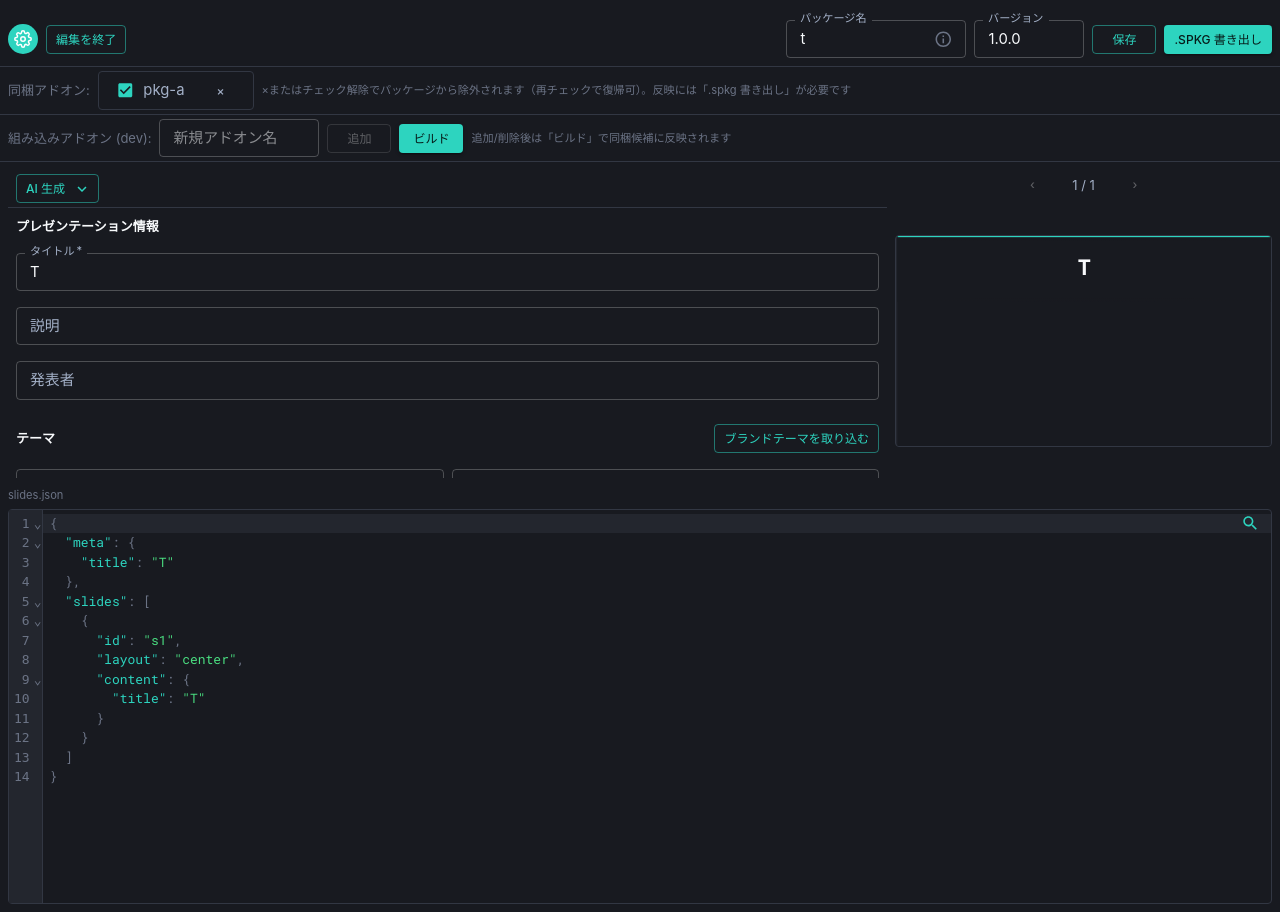
Test: SlideEditor 同梱アドオン選択（②・層A∪層B・0件表示） › 層Bの×ボタンでチェックを外し、パッケージから除外できる（層Aと統一した削除導線・#36）
Check: the checkbox labelled "pkg-a" is checked, box x1=116 y1=81 x2=184 y2=100
Click the button named "pkg-a をパッケージから除外": (220, 91) x1=188 y1=76 x2=252 y2=105
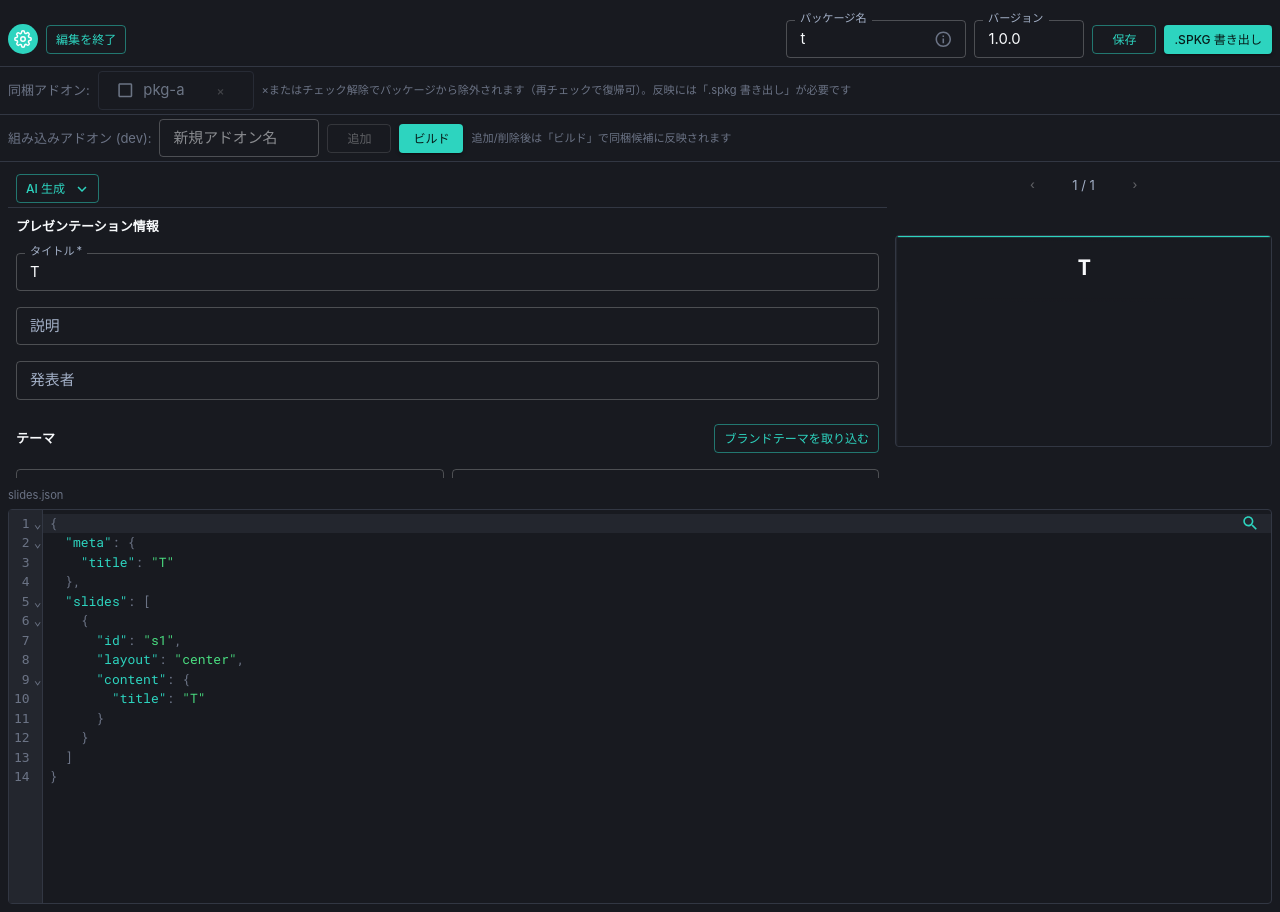
Check: the checkbox labelled "pkg-a" is not checked, box x1=116 y1=81 x2=184 y2=100
